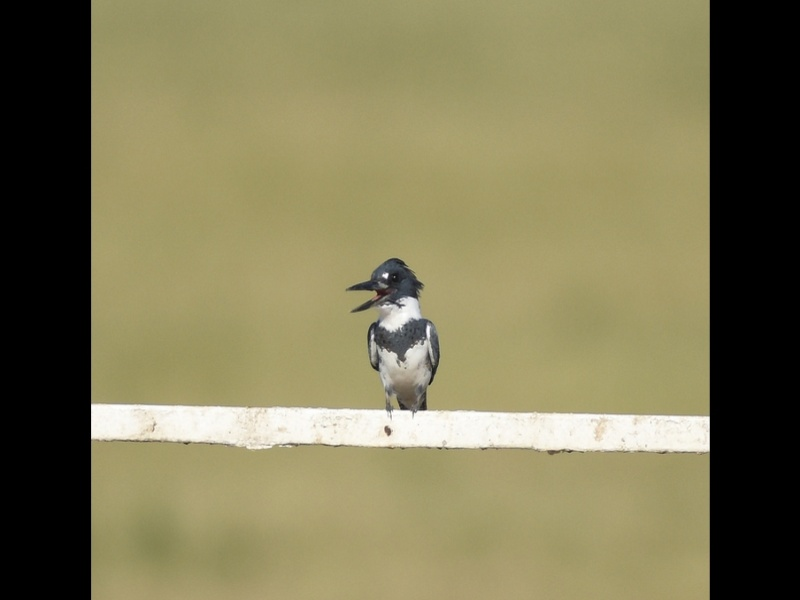kingfisher: (346, 255, 444, 420)
